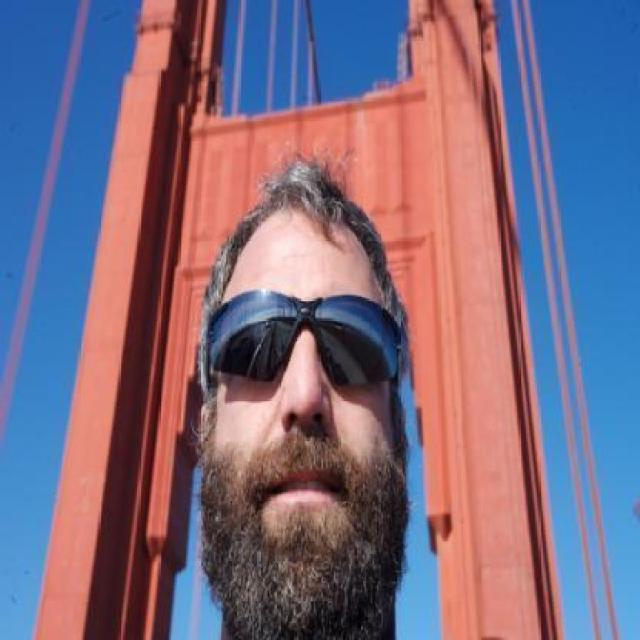face_nomask: (208, 306, 394, 531)
glasses: (206, 288, 409, 394)
head_nohelmet: (201, 176, 407, 252)
